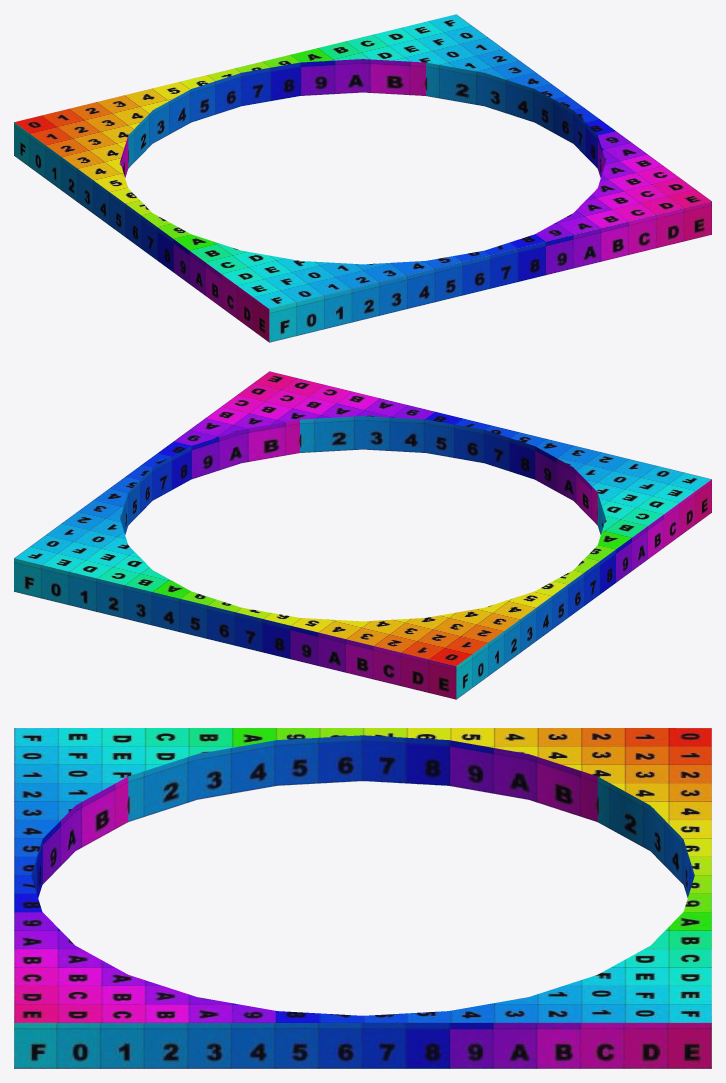
The model's file is bbuilder_box with large hole circle.dae.
The picture shows the model from 3 angles, top to bottom: view 1: azimuth 30°, elevation 25°; view 2: azimuth 150°, elevation 25°; view 3: azimuth 270°, elevation 25°; orthographic projection. The views are drawn at different scales.
Parts seen in each view (by area): view 1: SketchUp (×2); view 2: SketchUp (×2); view 3: SketchUp (×2).
Part boxes in pixels (bbox=[...]): SketchUp (×2): bbox=[14, 14, 711, 342]; SketchUp (×2): bbox=[14, 371, 711, 699]; SketchUp (×2): bbox=[14, 728, 711, 1068].
Size of the model in its own units: 134 by 134 by 9.69.
